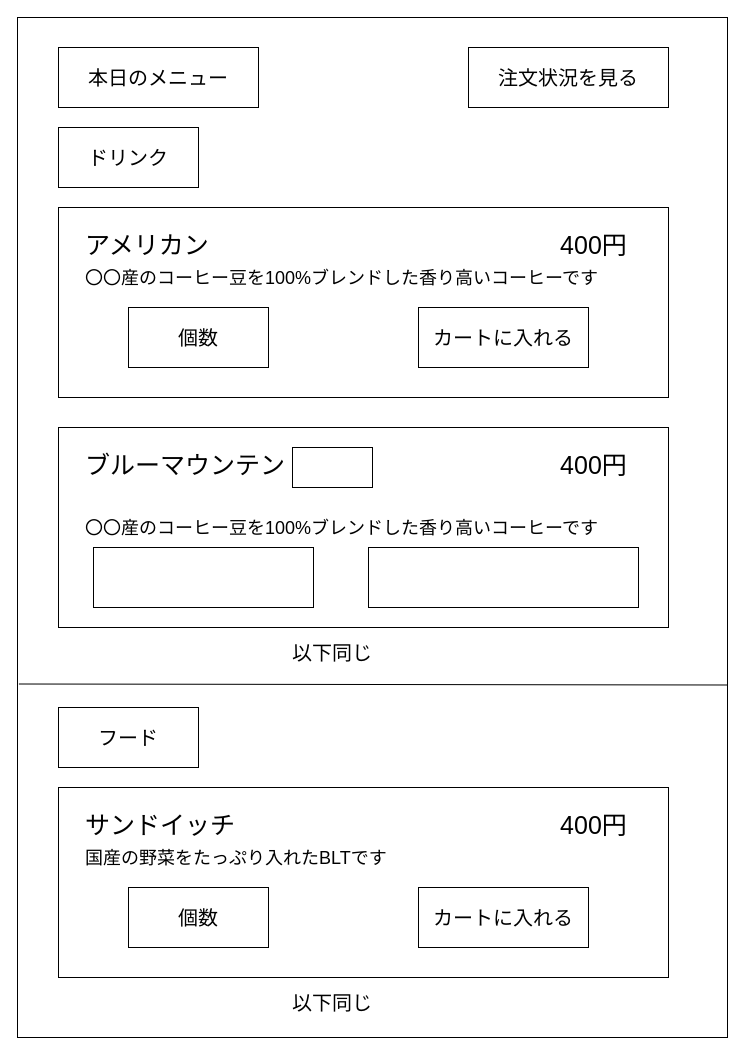
Some shapes in this 746 by 1055 pixel diagram are drawn without their labels. Here are the shapes that lost their labels. From the top down, the centre of each, then its label:
At pixel 332 467: "売切".
At pixel 203 577: "個数（選択不可）".
At pixel 503 577: "カートに入れる（選択不可）".
